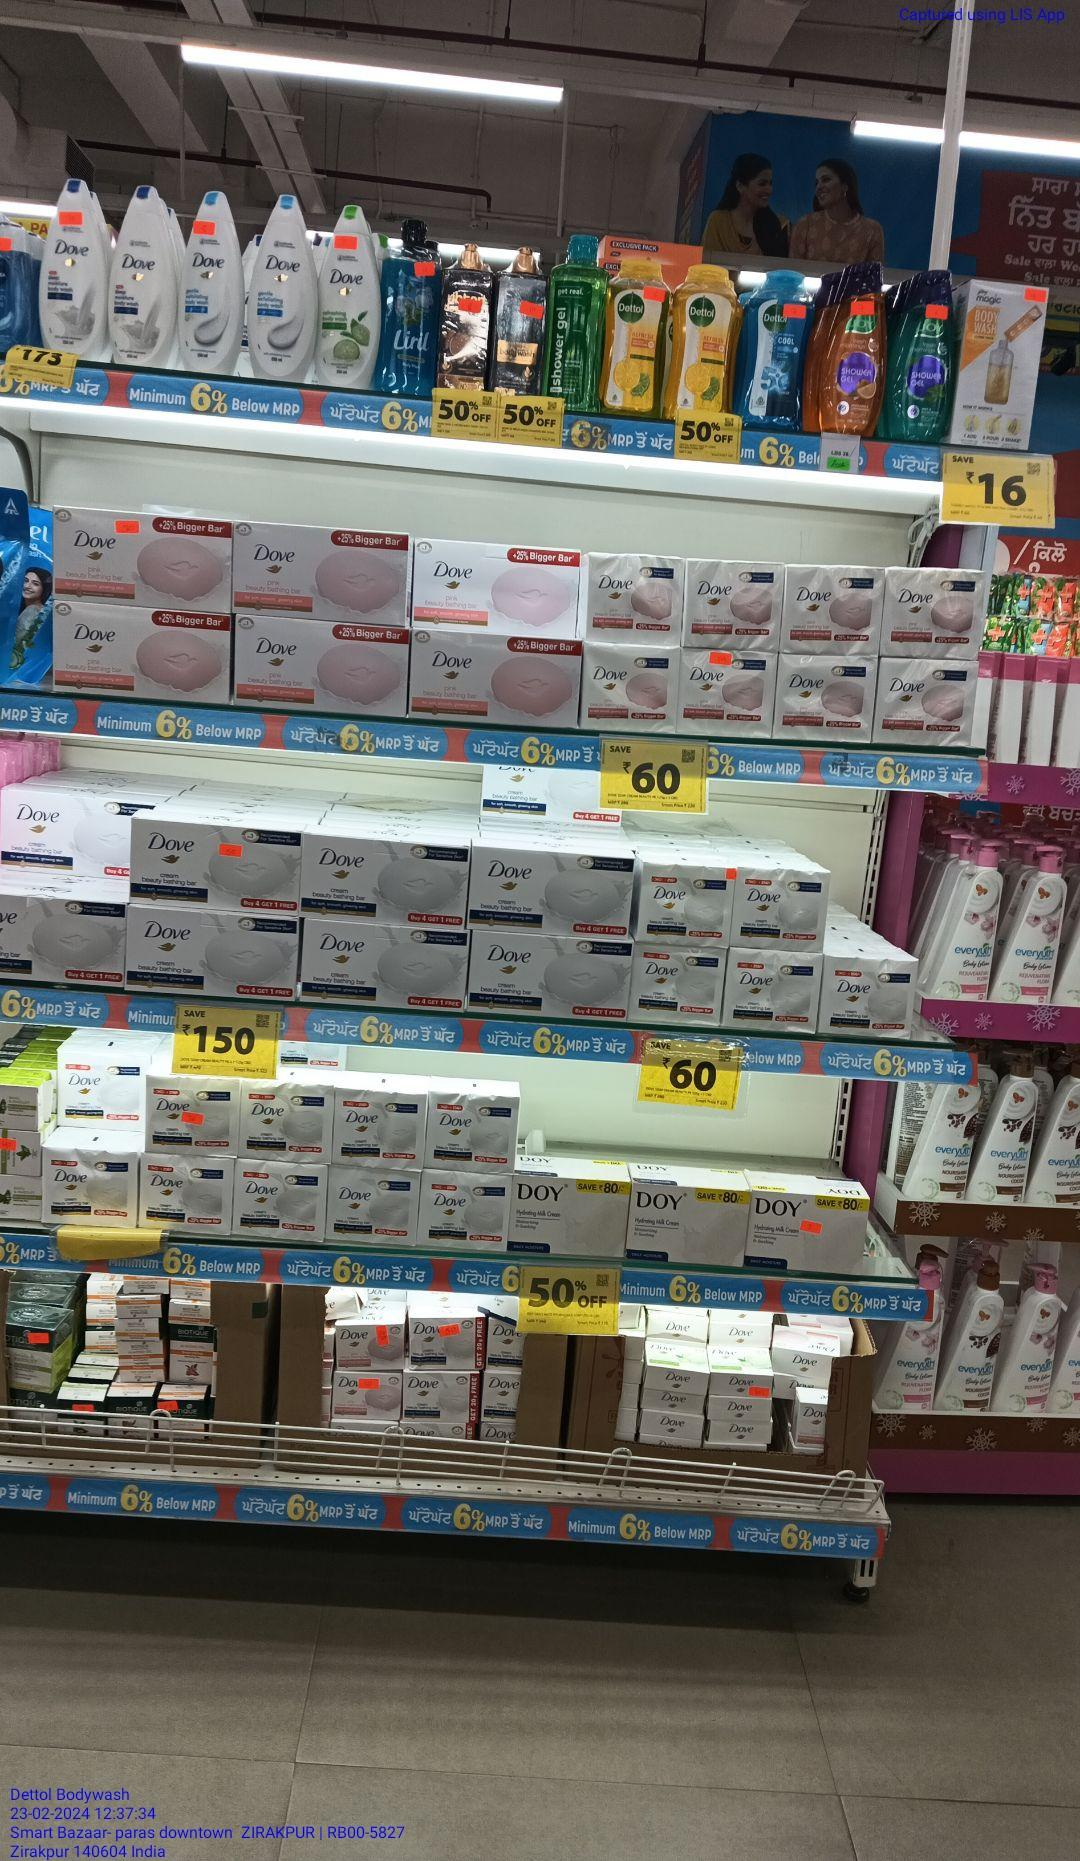Dettol_Bodywash_Cool: (743, 269, 801, 429)
Dettol_Bodywash_Refresh: (665, 262, 733, 411), (607, 252, 661, 416)
Dove_Deep_Moisture_Body_Wash_250ML: (37, 176, 103, 353), (111, 180, 171, 366)
Dove_Gentle_Exfoliating_Body_Wash_250ML: (176, 190, 242, 375), (249, 190, 310, 382)
Dove_Refreshing_Body_Wash_250ML: (319, 200, 381, 392)
Joy_Shower_Gel_Mandarin_and_Lemongrass_250ML: (827, 257, 885, 437)
Joy_Shower_Gel_Mint_and_Eucalyptus_250ML: (899, 263, 950, 446)
